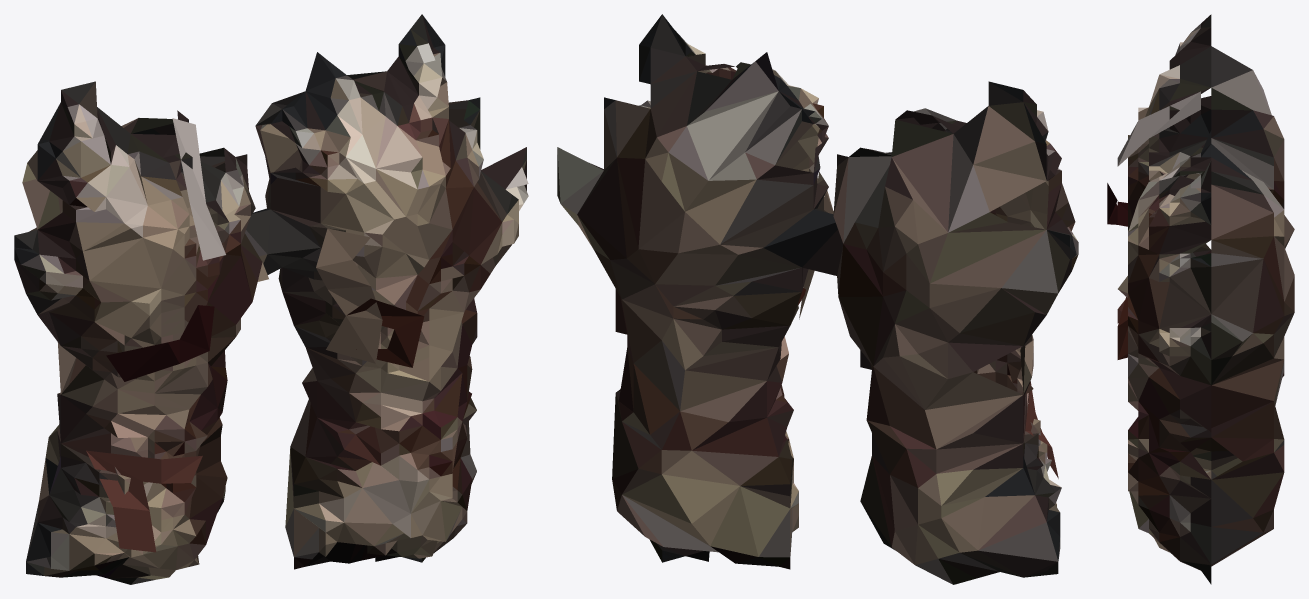
File: B04_6_bone_bracers.obj
The picture shows the model from 3 angles, left to right: view 1: azimuth 30°, elevation 25°; view 2: azimuth 150°, elevation 25°; view 3: azimuth 270°, elevation 25°; orthographic projection. The views are drawn at different scales.
Parts seen in each view (by area): view 1: B04_6_bone_bracers; view 2: B04_6_bone_bracers; view 3: B04_6_bone_bracers.
Part boxes in pixels (x1=…): B04_6_bone_bracers: x1=14, y1=14, x2=528, y2=584; B04_6_bone_bracers: x1=557, y1=14, x2=1078, y2=584; B04_6_bone_bracers: x1=1107, y1=14, x2=1294, y2=584.
Bounding box in the file's own units: 44 × 46 × 18.
